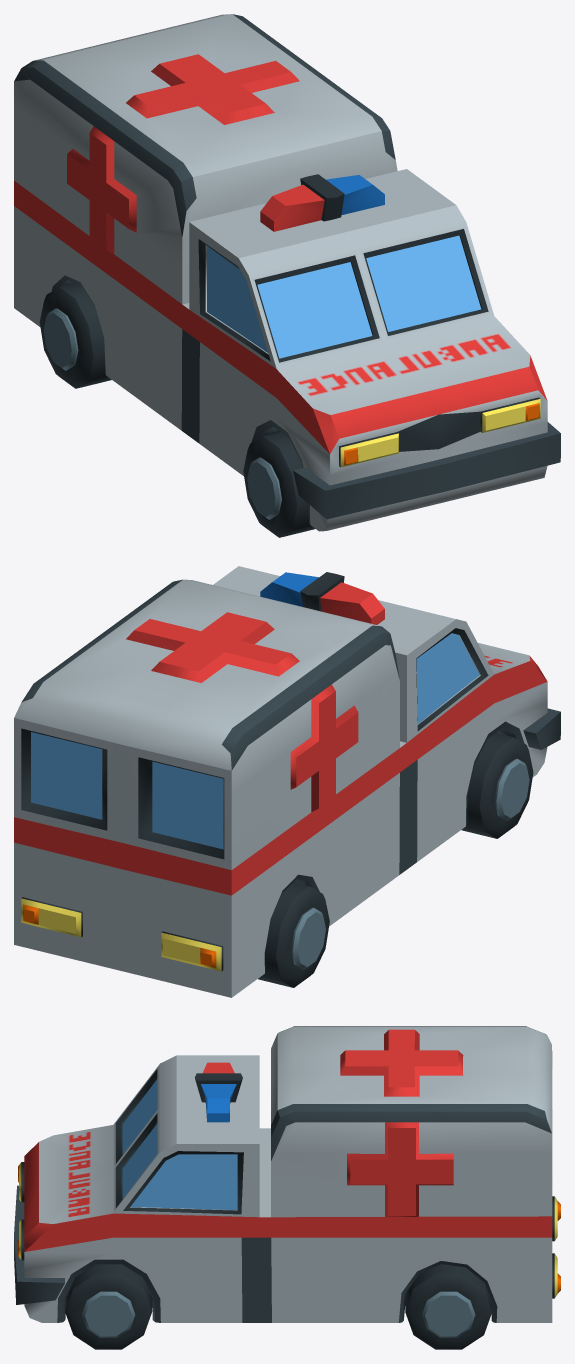
File: Ambulance.fbx
The picture shows the model from 3 angles, top to bottom: view 1: azimuth 30°, elevation 25°; view 2: azimuth 150°, elevation 25°; view 3: azimuth 270°, elevation 25°; orthographic projection. The views are drawn at different scales.
Parts seen in each view (by area): view 1: Ambulance, AmblunaceWheelBackR, AmblunaceWheelFrontR; view 2: Ambulance, AmblunaceWheelFrontR, AmblunaceWheelBackR; view 3: Ambulance, AmblunaceWheelFrontL, AmblunaceWheelBackL.
Boxes of the visible parts, x1,y1,x2,y2 form: Ambulance: (14, 14, 560, 531); AmblunaceWheelBackR: (39, 283, 111, 388); AmblunaceWheelFrontR: (243, 432, 315, 537); Ambulance: (14, 566, 560, 997); AmblunaceWheelFrontR: (461, 733, 533, 838); AmblunaceWheelBackR: (258, 882, 329, 987); Ambulance: (14, 1026, 560, 1322); AmblunaceWheelFrontL: (65, 1264, 152, 1349); AmblunaceWheelBackL: (405, 1264, 492, 1349).
Bounding box in the file's own units: 6.58 × 7.21 × 14.68.
